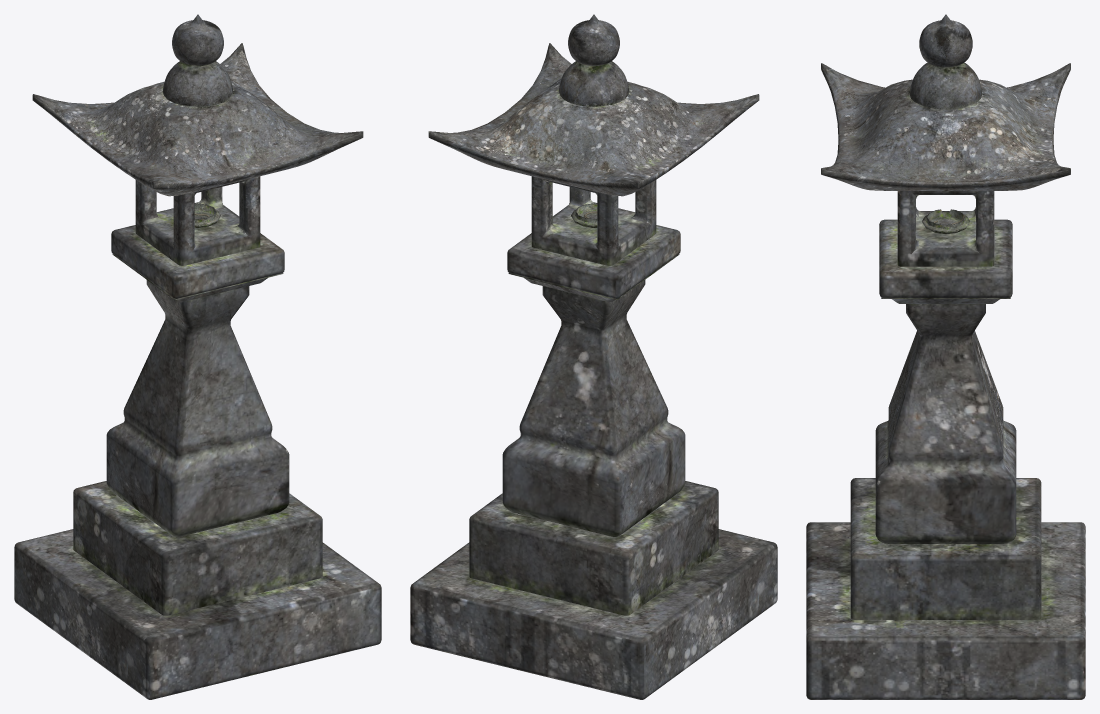
File: Stone Lantern.fbx
3 renders of one model, left to right at view 1: azimuth 30°, elevation 25°; view 2: azimuth 150°, elevation 25°; view 3: azimuth 270°, elevation 25°, orthographic. The views are drawn at different scales.
Parts seen in each view (by area): view 1: Stone Lantern.Shape; view 2: Stone Lantern.Shape; view 3: Stone Lantern.Shape.
Boxes of the visible parts, x1=… form: Stone Lantern.Shape: x1=14, y1=14, x2=381, y2=699; Stone Lantern.Shape: x1=410, y1=14, x2=777, y2=699; Stone Lantern.Shape: x1=806, y1=14, x2=1085, y2=699.
Bounding box in the file's own units: 73.2 × 182 × 73.2.
